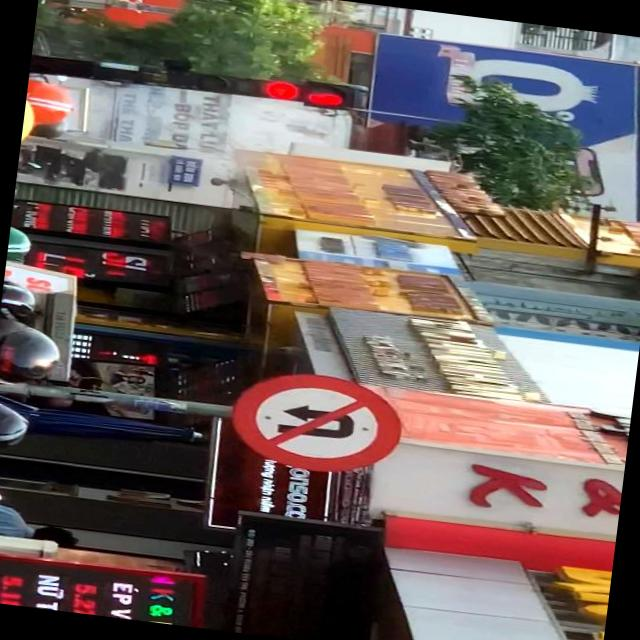P-124a1: (223, 364, 407, 480)
